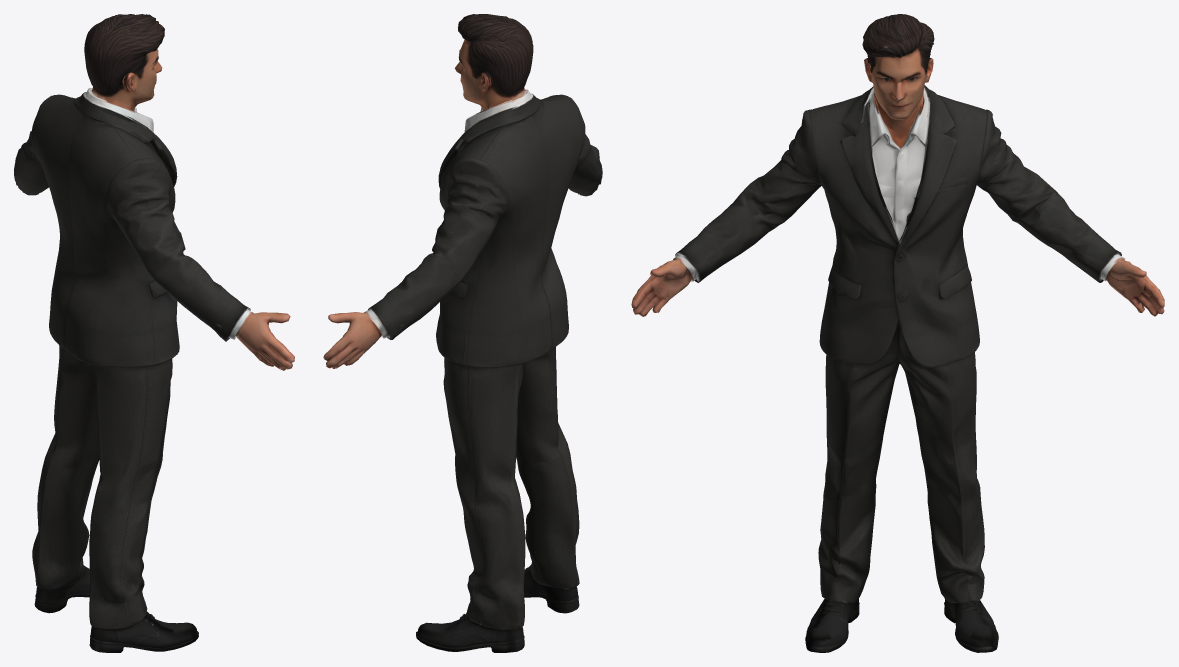
Rendered from player.glb.
3 views of the same model, side by side, from view 1: azimuth 30°, elevation 25°; view 2: azimuth 150°, elevation 25°; view 3: azimuth 270°, elevation 25° (orthographic). The views are drawn at different scales.
Visible parts, largest first — view 1: tripo_node_8b986991-9f64-41c2-a67a-ea6b536fcd61; view 2: tripo_node_8b986991-9f64-41c2-a67a-ea6b536fcd61; view 3: tripo_node_8b986991-9f64-41c2-a67a-ea6b536fcd61.
Boxes of the visible parts, <box> form: tripo_node_8b986991-9f64-41c2-a67a-ea6b536fcd61: <box>14,14,294,652</box>; tripo_node_8b986991-9f64-41c2-a67a-ea6b536fcd61: <box>323,14,602,652</box>; tripo_node_8b986991-9f64-41c2-a67a-ea6b536fcd61: <box>631,14,1164,652</box>.
Size of the model in its own units: 0.1828 by 0.9801 by 0.7622.
1 material, 1 textured.
